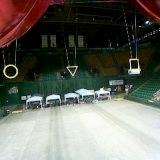Yellow_Circle_GShape: (4, 64, 19, 79)
Yellow_Square_GShape: (130, 58, 141, 71)
Yellow_Triangle_Gshape: (67, 66, 79, 77)
